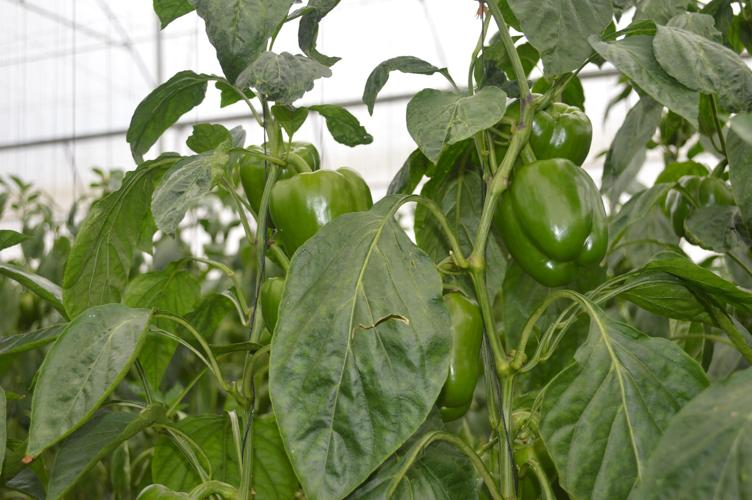BellPepper: (494, 160, 612, 282), (422, 291, 485, 417), (268, 168, 373, 241), (488, 94, 597, 163), (233, 141, 322, 220)
